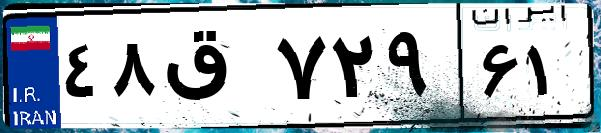1: (525, 38, 570, 115)
2: (330, 28, 385, 110)
4: (57, 26, 110, 100)
6: (475, 38, 525, 113)
7: (270, 28, 330, 110)
8: (110, 28, 158, 98)
9: (385, 28, 445, 110)
ق: (158, 20, 270, 120)
